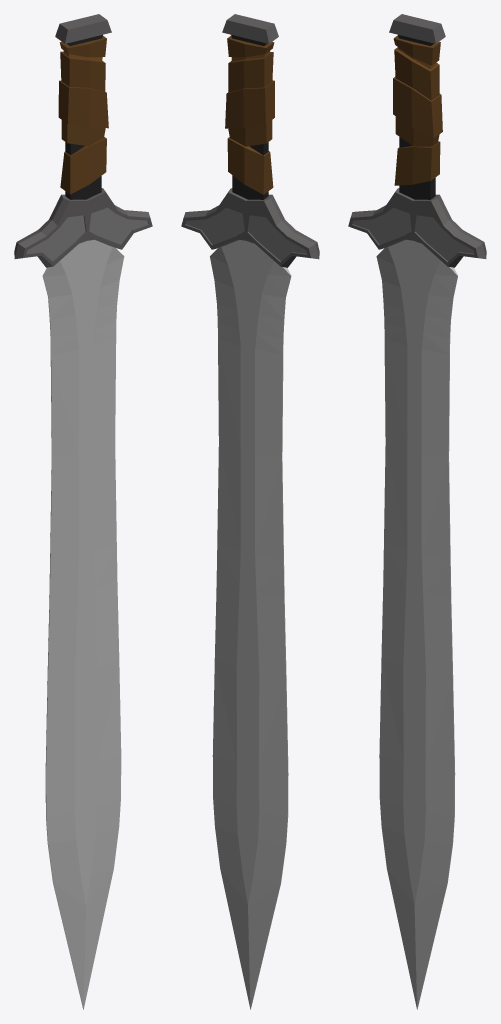
Rendered from SwordS2.fbx.
The picture shows the model from 3 angles, left to right: view 1: azimuth 30°, elevation 25°; view 2: azimuth 150°, elevation 25°; view 3: azimuth 330°, elevation 25°; orthographic projection.
Parts seen in each view (by area): view 1: Sword; view 2: Sword; view 3: Sword.
Boxes of the visible parts, left/top/right/bottom form: Sword: left=14, top=14, right=152, bottom=1009; Sword: left=181, top=14, right=319, bottom=1009; Sword: left=348, top=14, right=486, bottom=1009.
Bounding box in the file's own units: 22.02 × 151 × 3.57.
